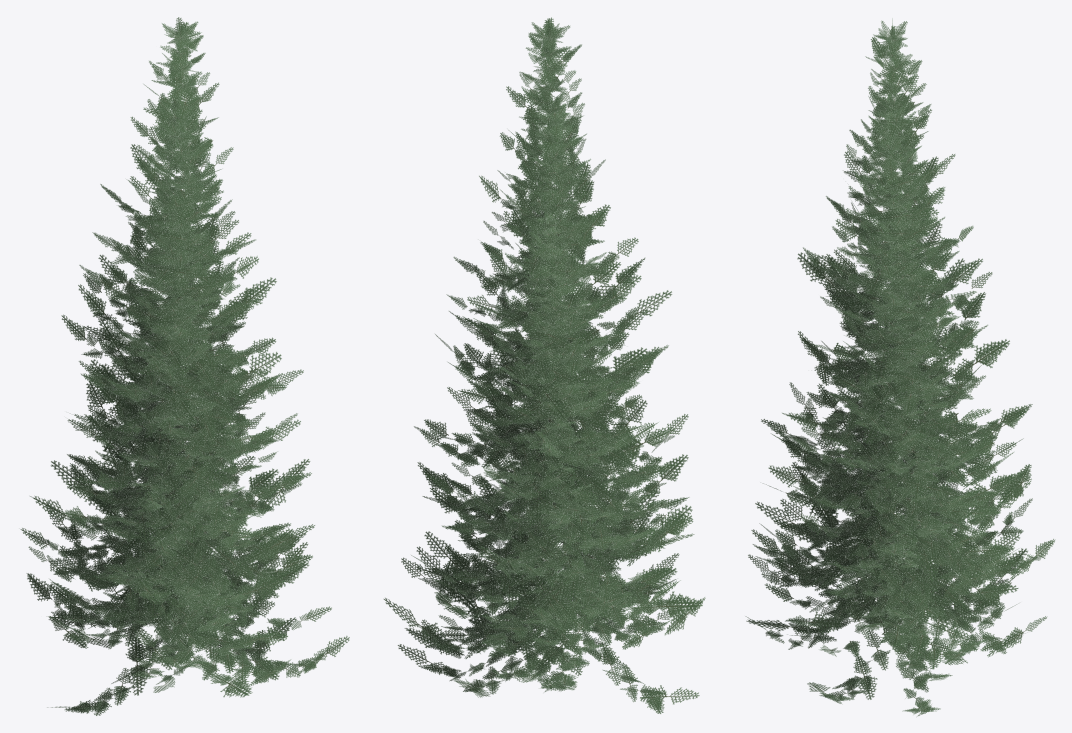
Rendered from spruce_leaf.glb.
3 renders of one model, left to right at view 1: azimuth 30°, elevation 25°; view 2: azimuth 150°, elevation 25°; view 3: azimuth 270°, elevation 25°, orthographic. The views are drawn at different scales.
Visible parts, largest first — view 1: spruce_c_l1, spruce_c, spruce_c_l2, spruce_a_l1, spruce_a, spruce_a_l2, spruce_b, spruce_b_l1, spruce_b_l2; view 2: spruce_c, spruce_c_l1, spruce_c_l2, spruce_a_l1, spruce_a, spruce_a_l2, spruce_b_l1, spruce_b_l2, spruce_b; view 3: spruce_c, spruce_c_l1, spruce_c_l2, spruce_a, spruce_a_l1, spruce_a_l2, spruce_b_l1, spruce_b, spruce_b_l2.
Boxes of the visible parts, x1,y1,x2,y2 form: spruce_c_l1: [20, 21, 349, 692]; spruce_c: [28, 25, 342, 685]; spruce_c_l2: [48, 17, 302, 697]; spruce_a_l1: [47, 96, 314, 713]; spruce_a: [48, 100, 305, 712]; spruce_a_l2: [30, 110, 294, 715]; spruce_b: [59, 212, 284, 692]; spruce_b_l1: [51, 197, 290, 684]; spruce_b_l2: [64, 218, 286, 664]; spruce_c: [401, 23, 705, 692]; spruce_c_l1: [404, 22, 692, 694]; spruce_c_l2: [425, 17, 702, 697]; spruce_a_l1: [398, 96, 699, 709]; spruce_a: [406, 100, 693, 707]; spruce_a_l2: [383, 109, 694, 713]; spruce_b_l1: [444, 203, 674, 682]; spruce_b_l2: [441, 216, 677, 677]; spruce_b: [439, 213, 664, 682]; spruce_c: [748, 26, 1055, 701]; spruce_c_l1: [755, 20, 1037, 703]; spruce_c_l2: [746, 18, 1040, 699]; spruce_a: [745, 96, 1018, 714]; spruce_a_l1: [751, 94, 1023, 716]; spruce_a_l2: [767, 111, 1030, 712]; spruce_b_l1: [764, 192, 1014, 668]; spruce_b: [770, 201, 1008, 671]; spruce_b_l2: [797, 208, 1018, 670].
Bounding box in the file's own units: 11.6 × 26.42 × 11.57.
Materials: 1 (1 with a texture image).
